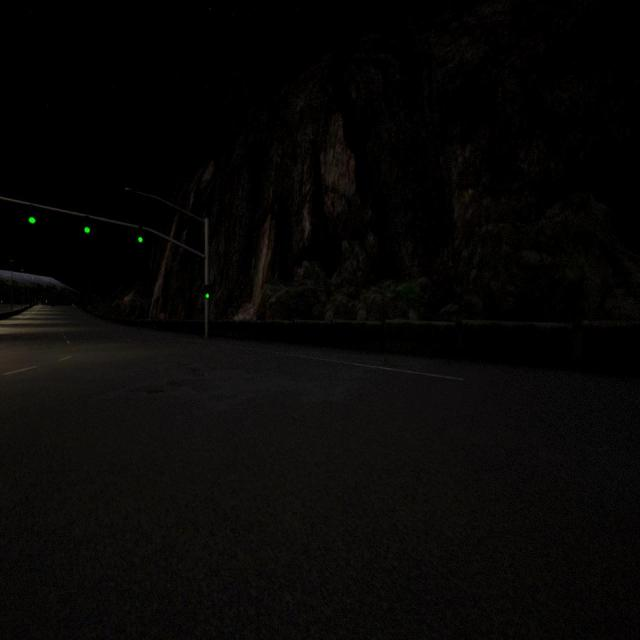Traffic_Signs: (160, 312, 164, 319)
traffic_light: (28, 204, 36, 224), (84, 215, 90, 234), (138, 226, 143, 244), (204, 285, 210, 299)
